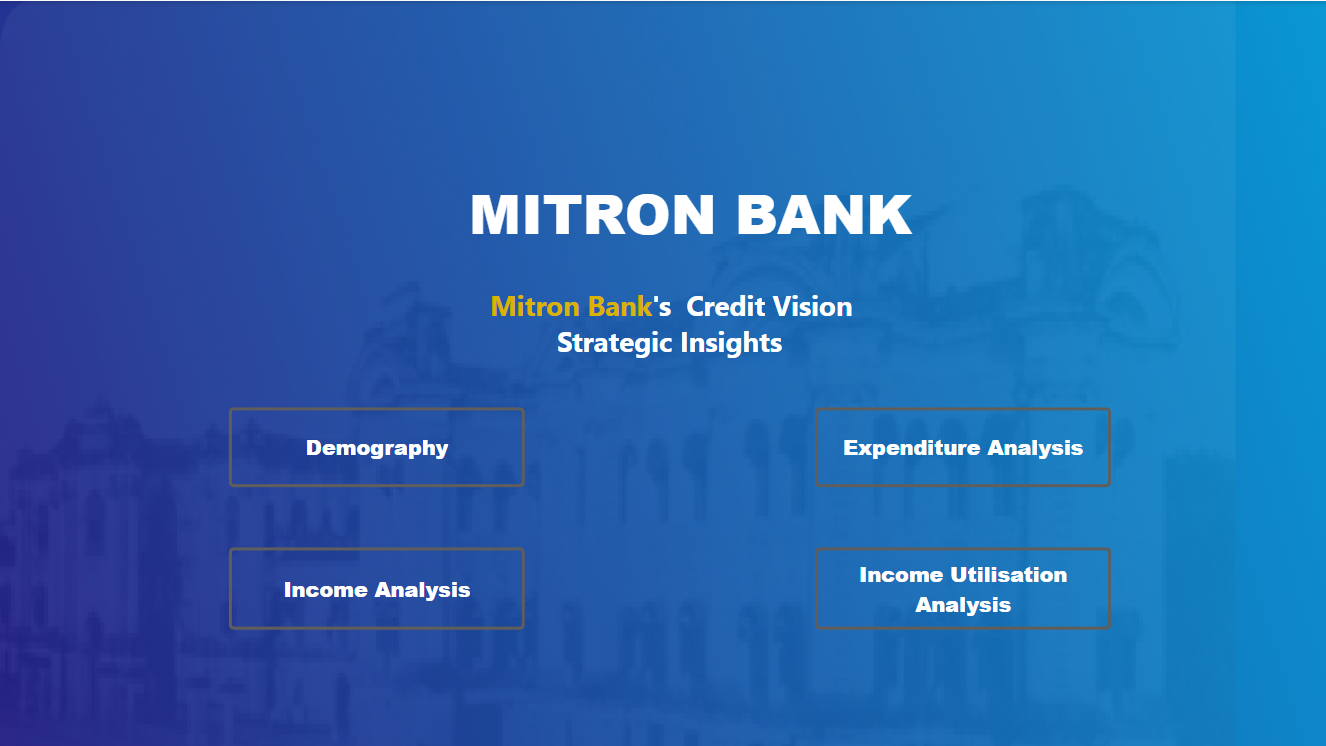

The dashboard page shown, as its layout file describes it:
{"tool":"powerbi","page":{"name":"Home","canvas":[1280,720],"ordinal":0},"visuals":[{"type":"textbox","box":[281.1,161.7,770.9,108.6],"z":0},{"type":"textbox","box":[220.8,270.2,850.5,97.7],"z":1000},{"type":"actionButton","box":[220.8,392.1,285.9,77.2],"z":2000},{"type":"actionButton","box":[786.6,527.2,285.9,79.6],"z":3000},{"type":"actionButton","box":[786.6,392.1,285.9,77.2],"z":4000},{"type":"actionButton","box":[220.8,527.2,285.9,79.6],"z":5000}]}

Visuals, with their boxes in screenshot pixels (x1, y1, x2, y2), scaled from the page's 1280x720 canvas onto the 1326x746 screenshot:
textbox: (x1=291, y1=168, x2=1090, y2=280)
textbox: (x1=229, y1=280, x2=1110, y2=381)
actionButton: (x1=229, y1=406, x2=525, y2=486)
actionButton: (x1=815, y1=546, x2=1111, y2=629)
actionButton: (x1=815, y1=406, x2=1111, y2=486)
actionButton: (x1=229, y1=546, x2=525, y2=629)
